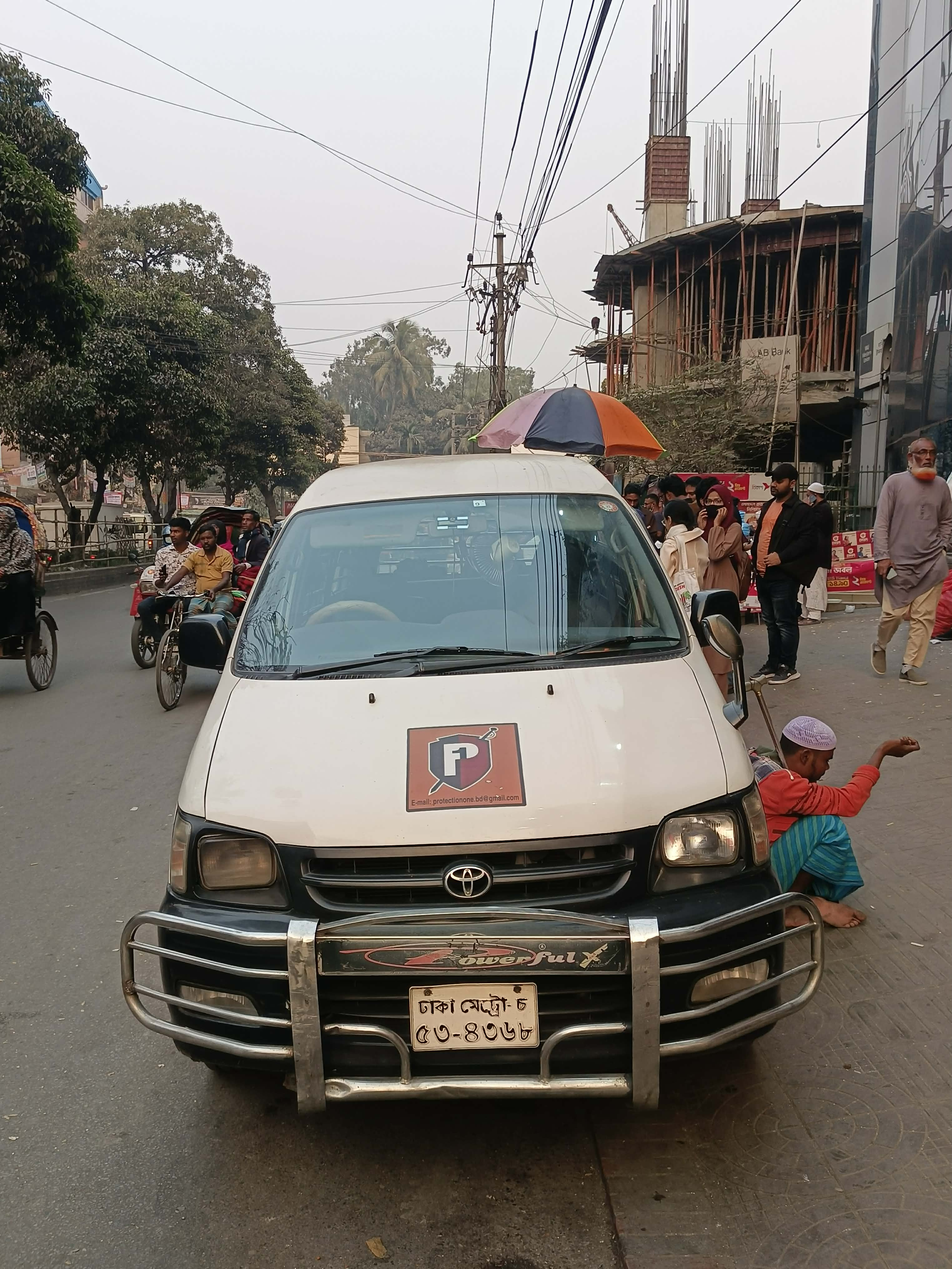auto-ricksaw: (112, 466, 255, 718), (0, 457, 82, 732)
private car: (150, 260, 857, 1159)
